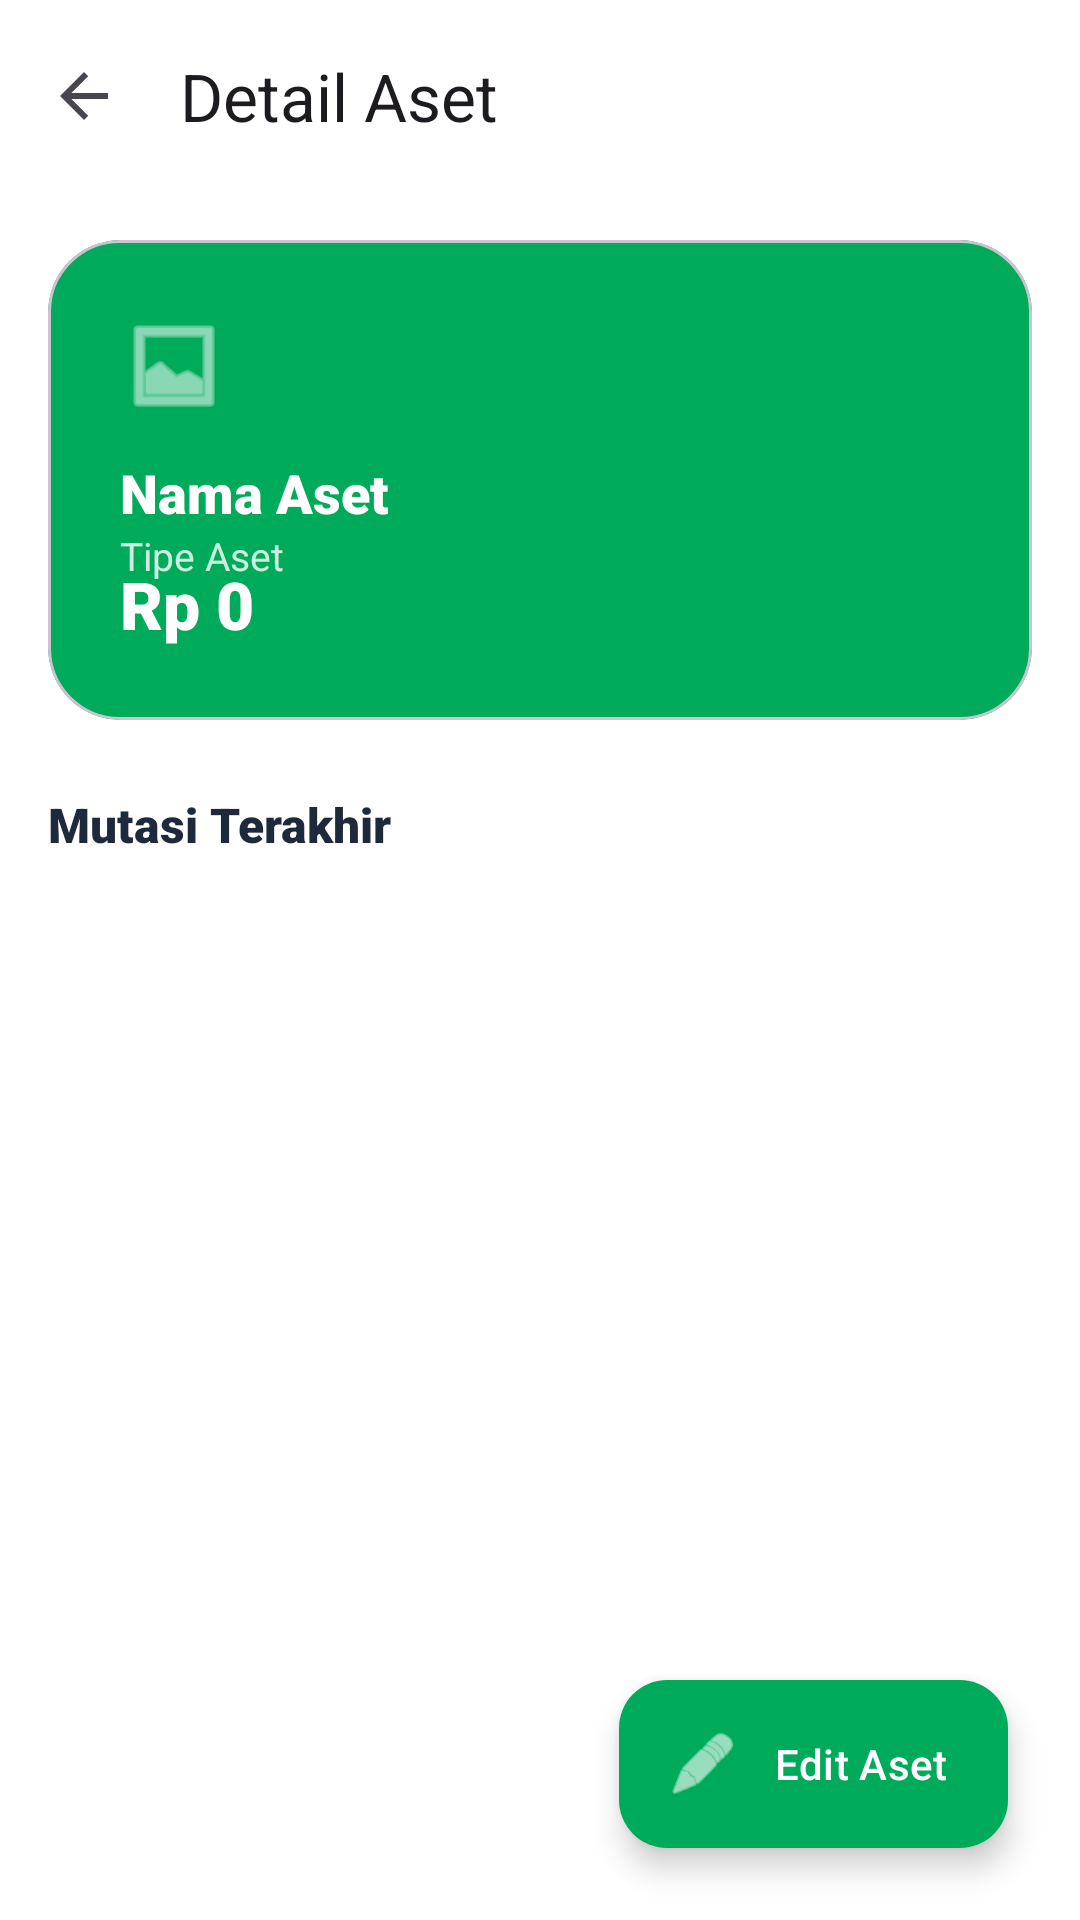

Where icons sit on this 1080px x 1920px app screen, as [left=x1, top=y1, right=x2, bottom=y2]:
gallery: [left=133, top=325, right=215, bottom=407]
